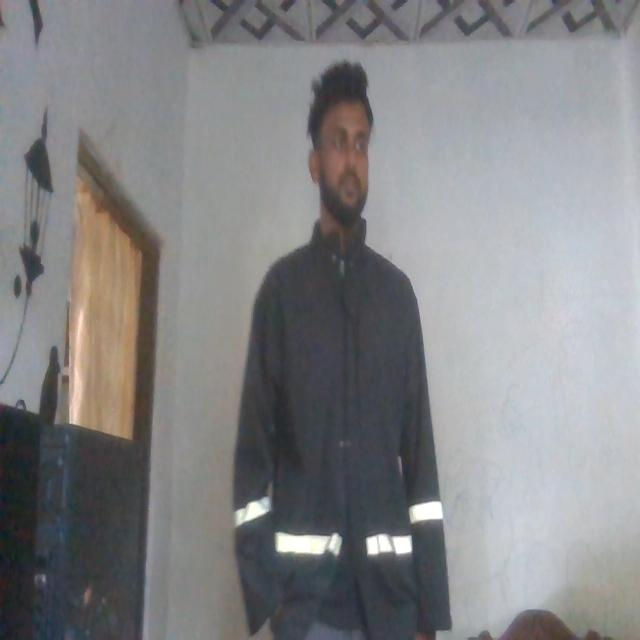Jacket_Wearer: (235, 213, 448, 631)
Person: (238, 53, 446, 640)
